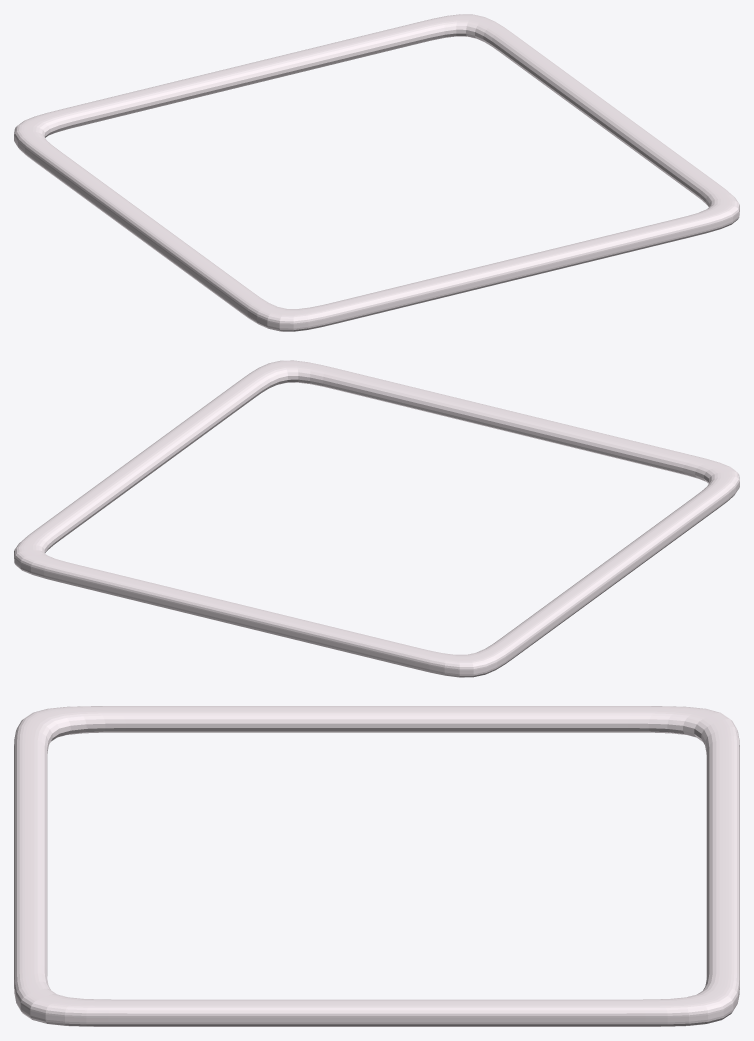
The model's file is startingsquare.dae.
3 views of the same model, one above another, from view 1: azimuth 30°, elevation 25°; view 2: azimuth 150°, elevation 25°; view 3: azimuth 270°, elevation 25° (orthographic). The views are drawn at different scales.
Parts seen in each view (by area): view 1: Plane; view 2: Plane; view 3: Plane.
Part boxes in pixels (x1,y1,x2,y2): Plane: [14, 14, 739, 331]; Plane: [14, 360, 739, 677]; Plane: [14, 706, 739, 1026].
Size of the model in its own units: 1.42 by 1.42 by 0.0433.
1 material, 1 textured.
